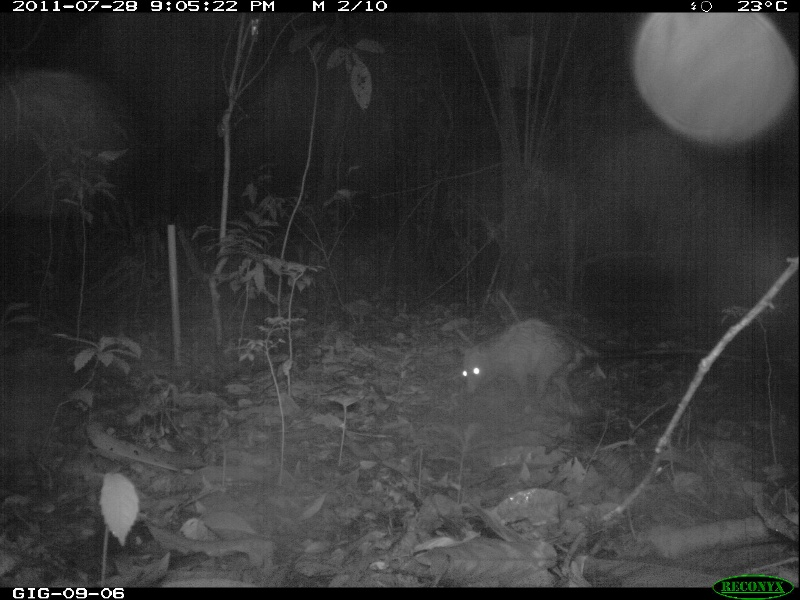opossum: (455, 314, 587, 411)
